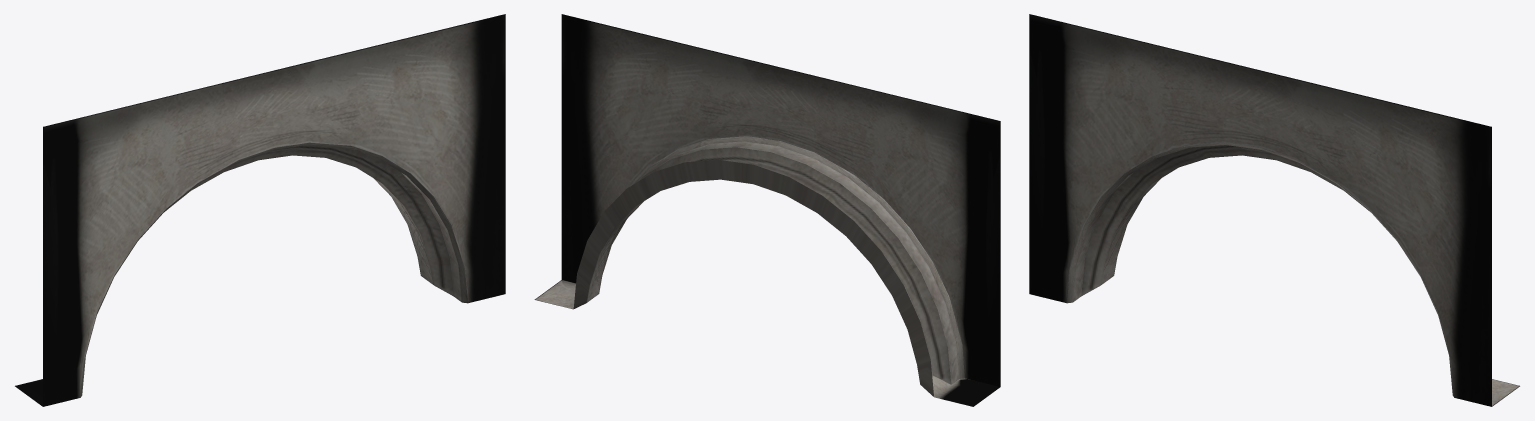
File: arcades_colonnes.fbx
3 views of the same model, side by side, from view 1: azimuth 30°, elevation 25°; view 2: azimuth 150°, elevation 25°; view 3: azimuth 330°, elevation 25° (orthographic). The views are drawn at different scales.
Parts seen in each view (by area): view 1: polySurface1545; view 2: polySurface1545; view 3: polySurface1545.
Boxes of the visible parts, <box> form: polySurface1545: <box>15,14,505,406</box>; polySurface1545: <box>534,14,1000,406</box>; polySurface1545: <box>1029,14,1519,406</box>.
Bounding box in the file's own units: 266 × 154 × 29.11.
